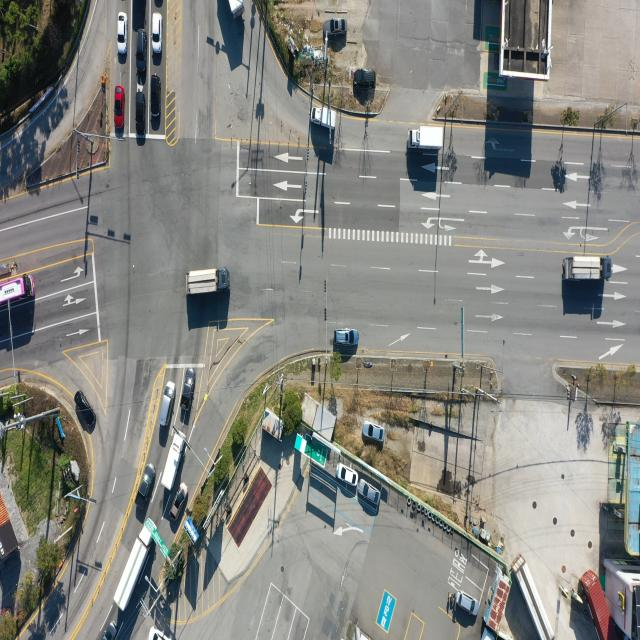car: (136, 463, 157, 508), (74, 390, 96, 428), (160, 381, 177, 428), (173, 482, 190, 521), (454, 590, 478, 616), (116, 85, 128, 134), (150, 74, 161, 127), (358, 481, 380, 506), (337, 463, 359, 486), (330, 325, 356, 344), (135, 90, 146, 134), (362, 422, 384, 442), (116, 13, 126, 54), (151, 12, 161, 52), (100, 619, 119, 640), (354, 68, 376, 86), (137, 29, 146, 70), (150, 624, 172, 640), (329, 19, 349, 35), (153, 0, 163, 8)
large_bus: (0, 274, 32, 308)
medium_truck: (116, 520, 157, 613), (518, 554, 557, 638), (160, 431, 184, 494), (564, 256, 610, 283), (186, 268, 230, 294), (410, 127, 446, 151), (227, 0, 245, 20)
small_truck: (314, 108, 339, 132)
